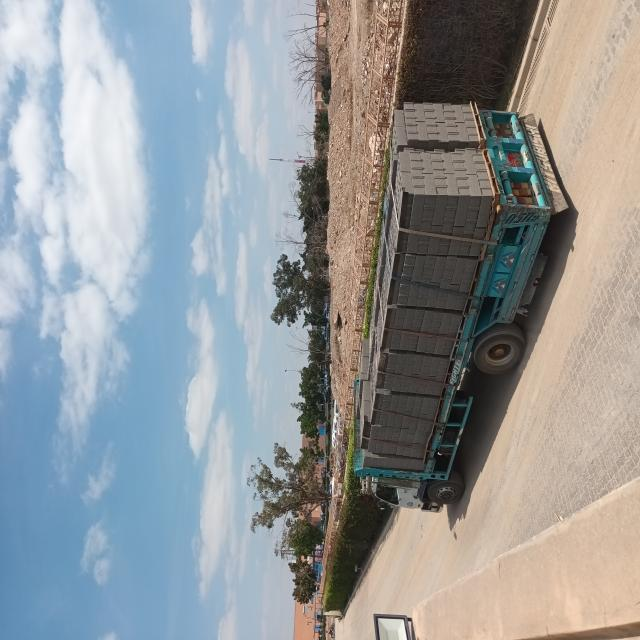bricks: (356, 103, 493, 470)
